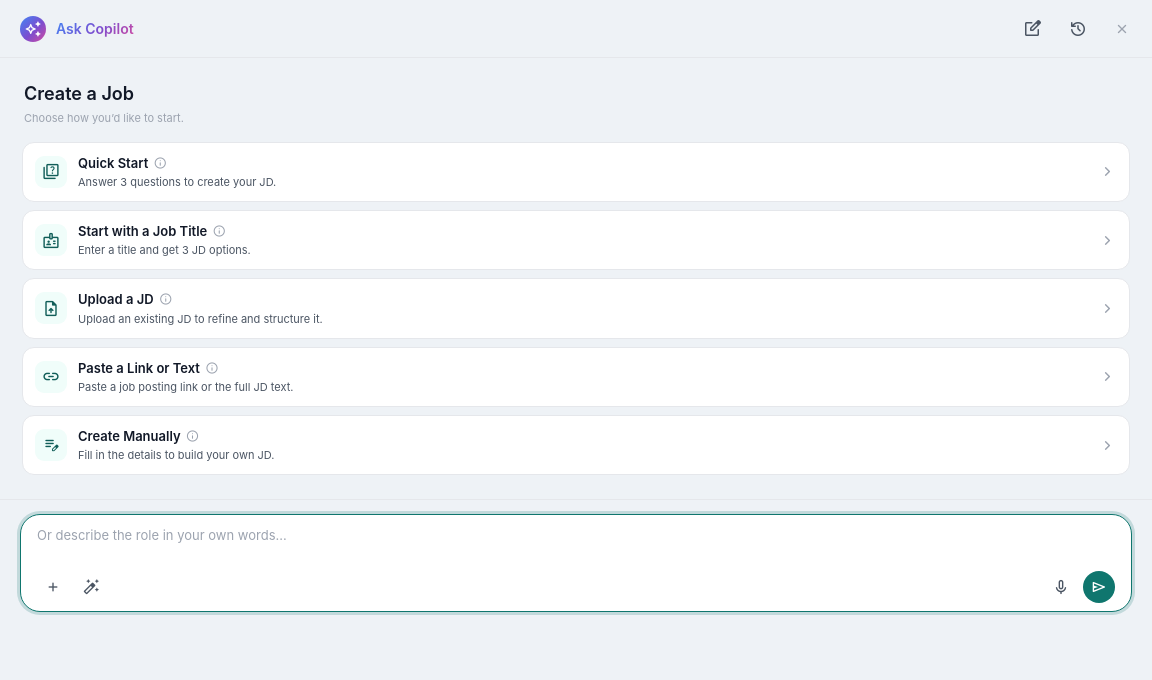
it: #99: refine only reports real changes › a small salary change (hourly 26–36 → 29–39) shows the new amount, highlighted, in the Workspace
This screenshot has width=1152, height=680.
Click the text "Start with a Job Title" at (153, 231), box [78,222,228,240]
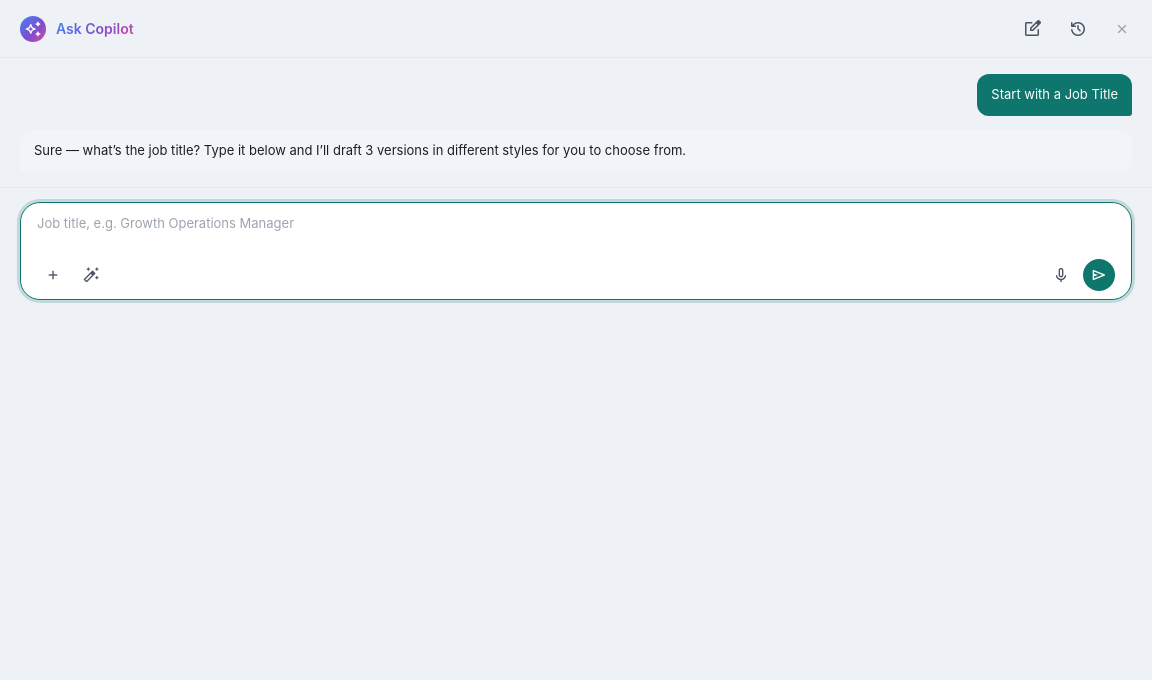
Type "Finance Manager" into the text box with placeholder "Job title, e.g. Growth Operations Manager" at (576, 234), box [37,214,1115,253]
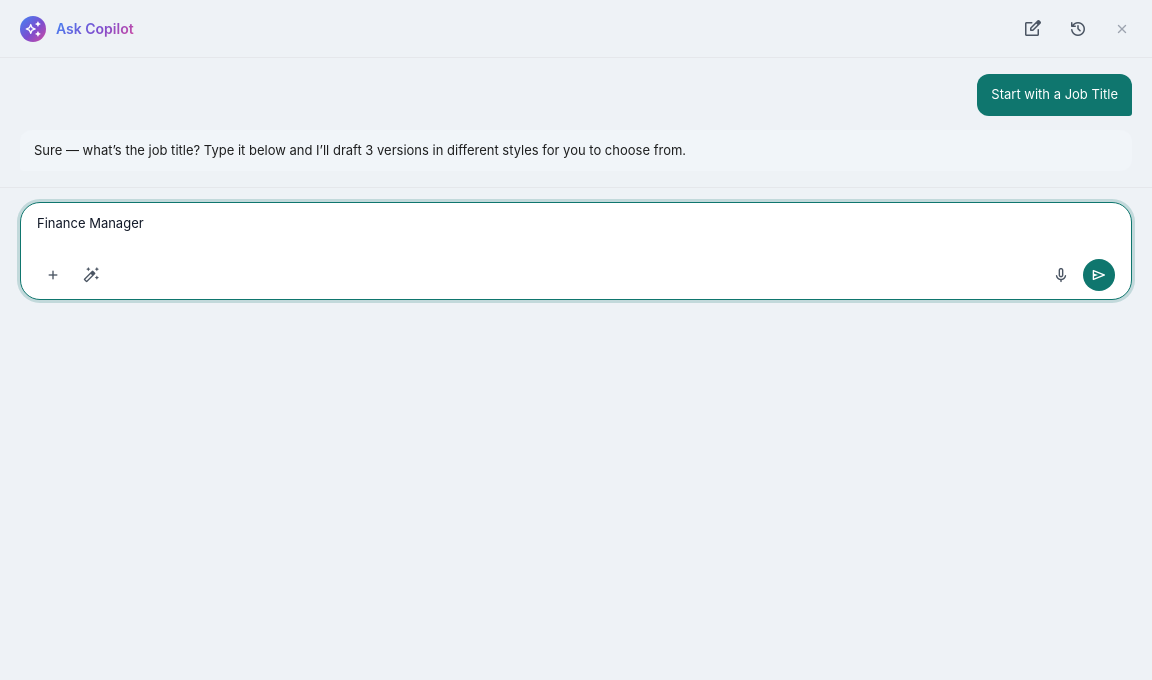
Click the button named "Send" at (1099, 275), box [1083,259,1115,291]
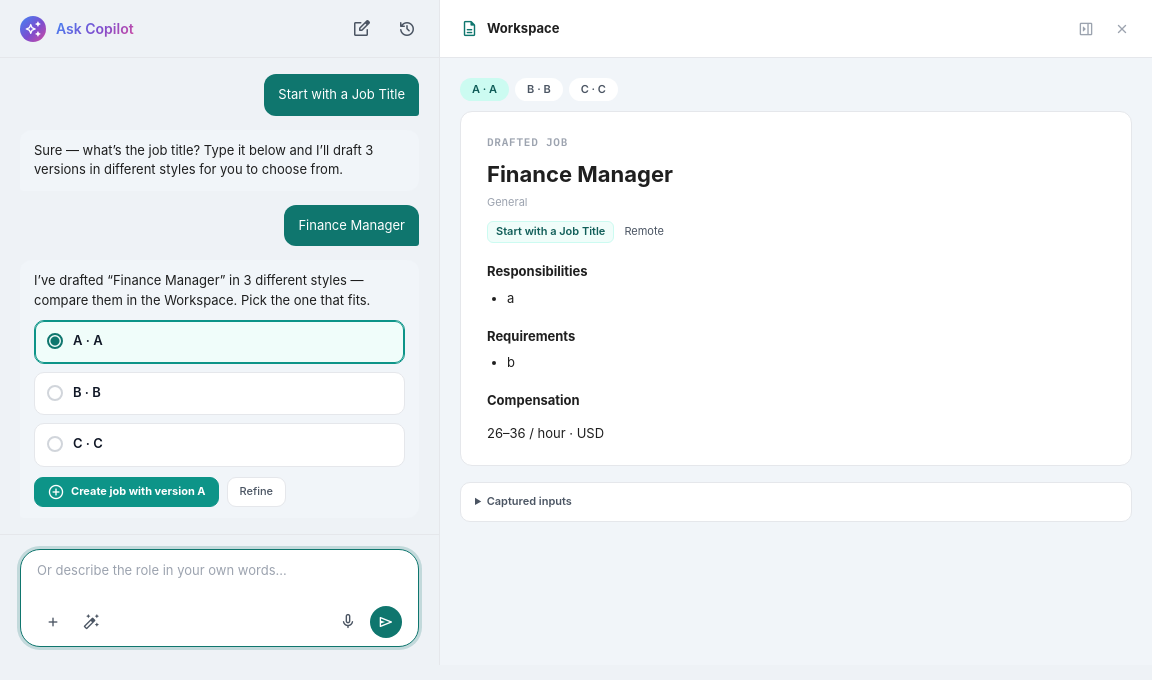
Type "raise the hourly salary to 29-39" into the text box with placeholder "Or describe the role in your own words…" at (220, 580), box [37,560,402,600]
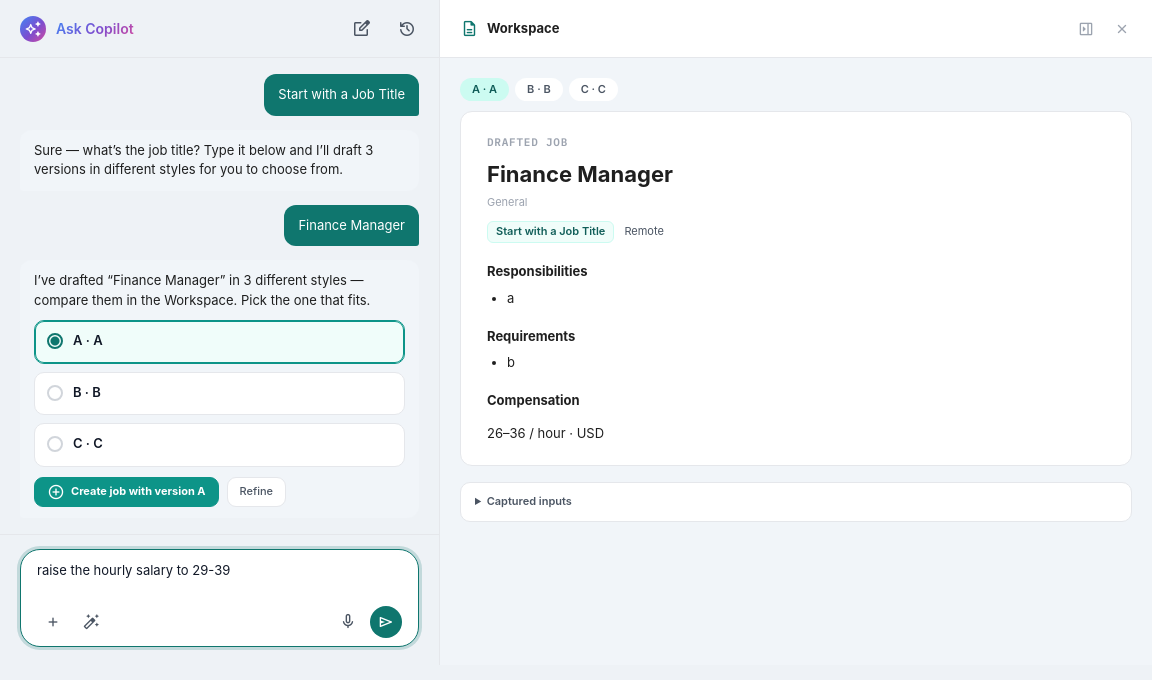
Click the button named "Send" at (386, 622), box [370,606,402,638]
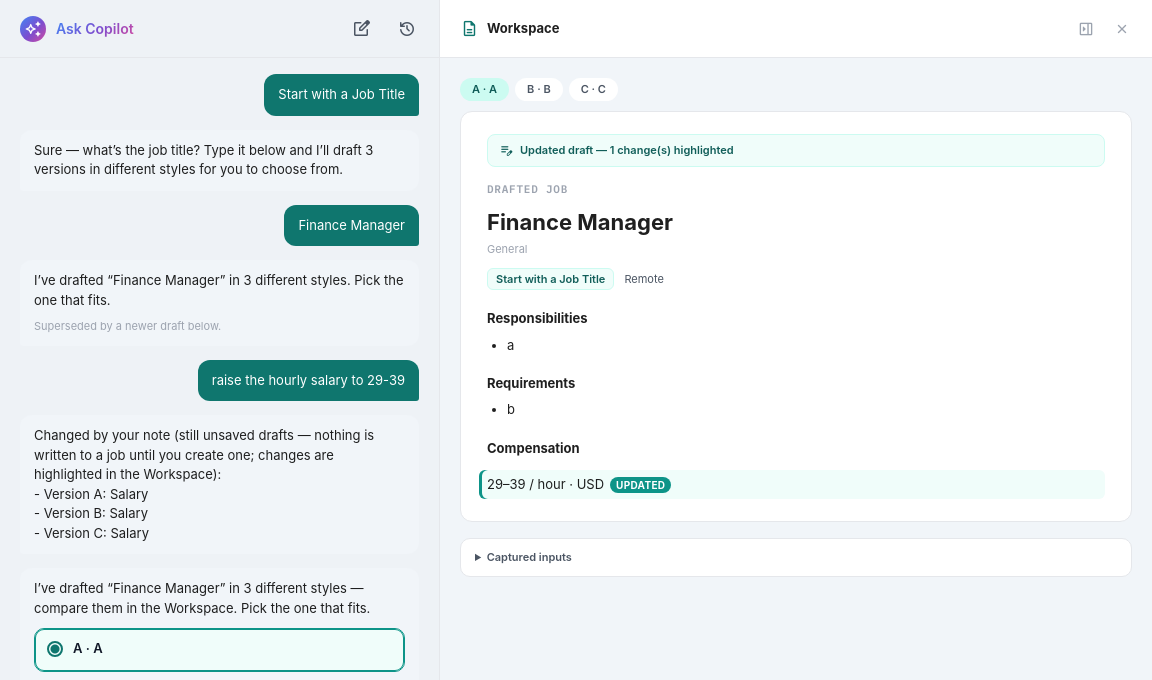
expect the text "- Version A: Salary" is shown: met, box [34,427,378,540]
expect the text "29–39 / hour · USD Updated" is shown: met, box [479,470,1105,499]
